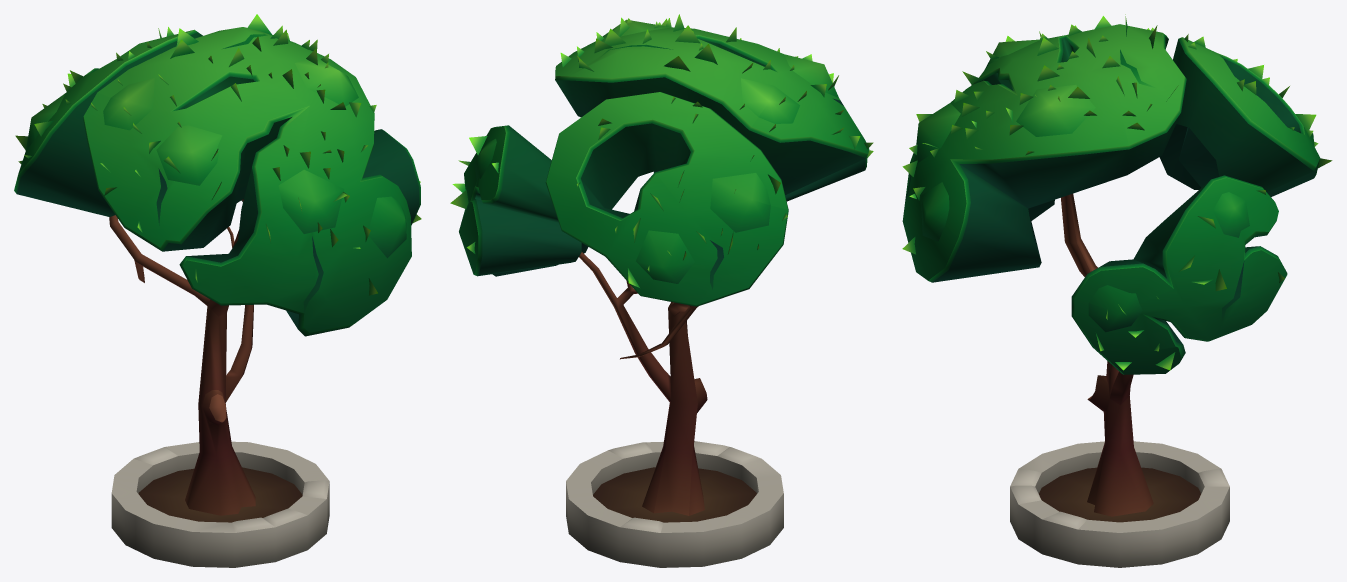
The model's file is Tree_1C.fbx.
3 views of the same model, side by side, from view 1: azimuth 30°, elevation 25°; view 2: azimuth 150°, elevation 25°; view 3: azimuth 270°, elevation 25° (orthographic).
Parts seen in each view (by area): view 1: Tree_1C; view 2: Tree_1C; view 3: Tree_1C.
Boxes of the visible parts, x1,y1,x2,y2 form: Tree_1C: (14,14,421,567); Tree_1C: (450,14,873,567); Tree_1C: (902,14,1332,567).
Size of the model in its own units: 7.38 by 9.83 by 7.82.
